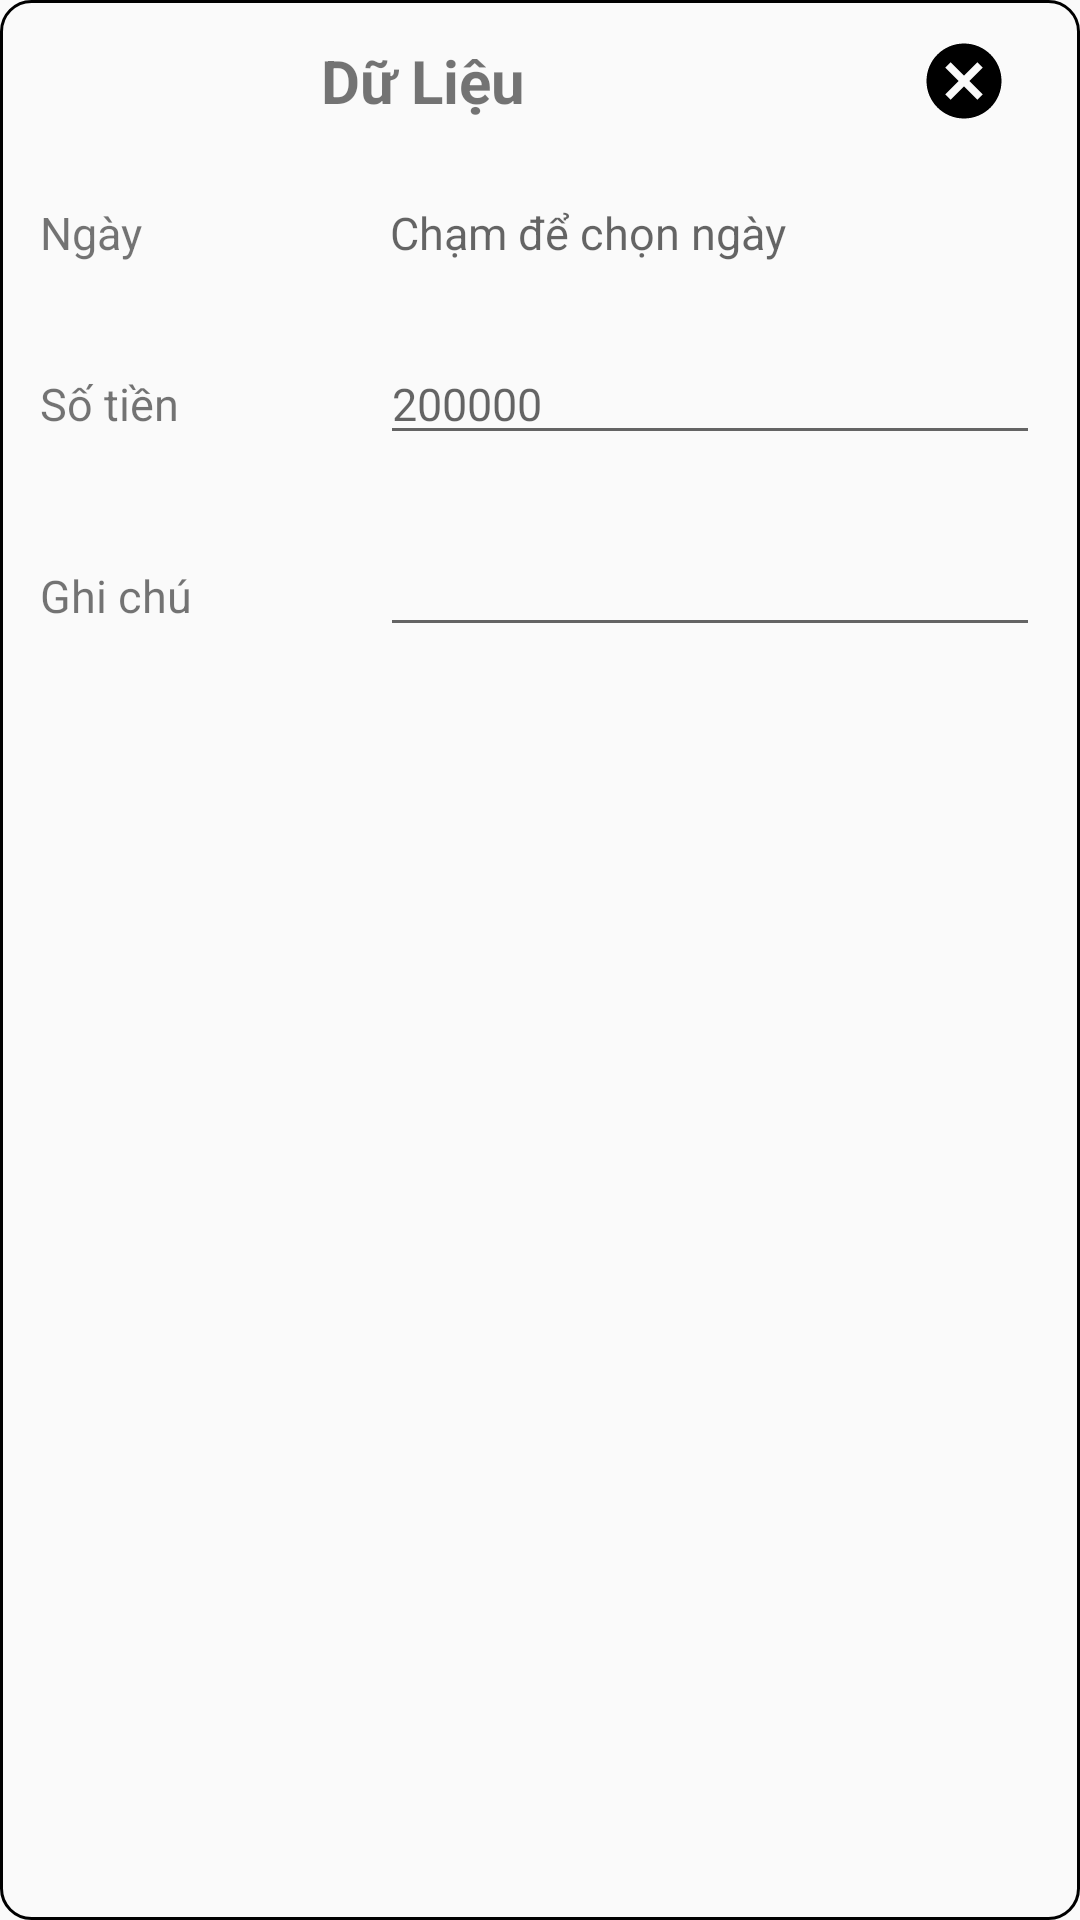

Icon bounding boxes for this 1080×1920 phone screenshot, format (x1, y1, x2, y2):
cancel: (926, 43, 1002, 119)
